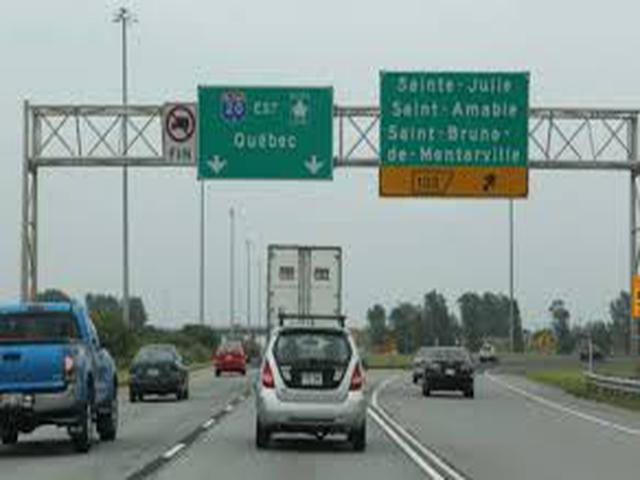autre: (380, 71, 529, 196), (196, 85, 334, 181)
